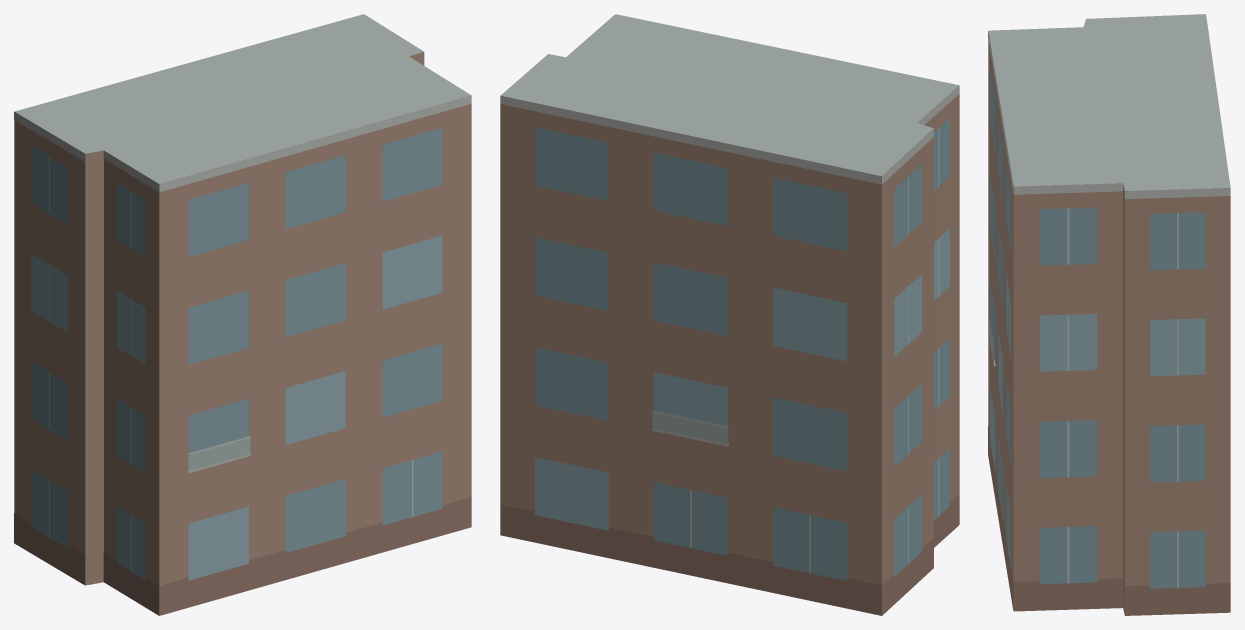
Rendered from survey-upis-32459853.glb.
3 renders of one model, left to right at view 1: azimuth 30°, elevation 25°; view 2: azimuth 150°, elevation 25°; view 3: azimuth 270°, elevation 25°, orthographic. The views are drawn at different scales.
Parts seen in each view (by area): view 1: survey-upis-32459853.tmp; view 2: survey-upis-32459853.tmp; view 3: survey-upis-32459853.tmp.
Boxes of the visible parts, x1,y1,x2,y2 form: survey-upis-32459853.tmp: (14,14,471,615); survey-upis-32459853.tmp: (500,14,959,615); survey-upis-32459853.tmp: (988,14,1230,615).
Size of the model in its own units: 11.46 by 12.8 by 6.63.
